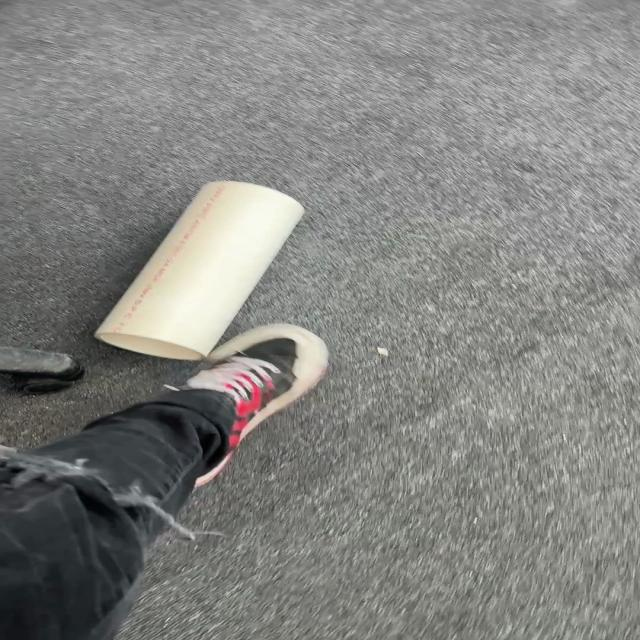Coral: (92, 179, 306, 361)
